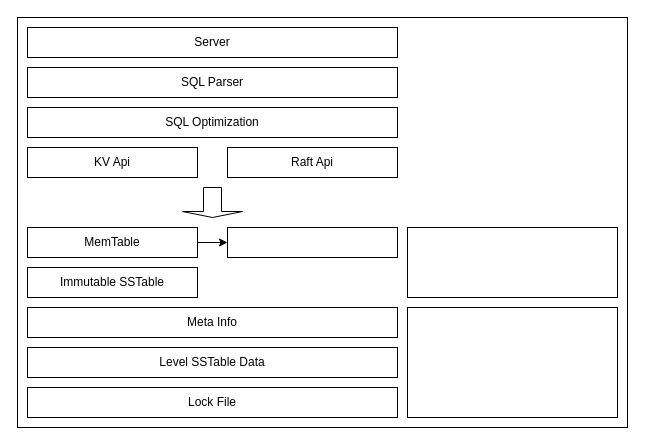
Some shapes in this 645 by 445 pixel diagram are drawn without their labels. The centre of each missing label's shape, as x and y in pixels:
"Compaction" goes at (x=512, y=362).
"Crash Handler" goes at (x=512, y=262).
"WAL log" goes at (x=312, y=242).
